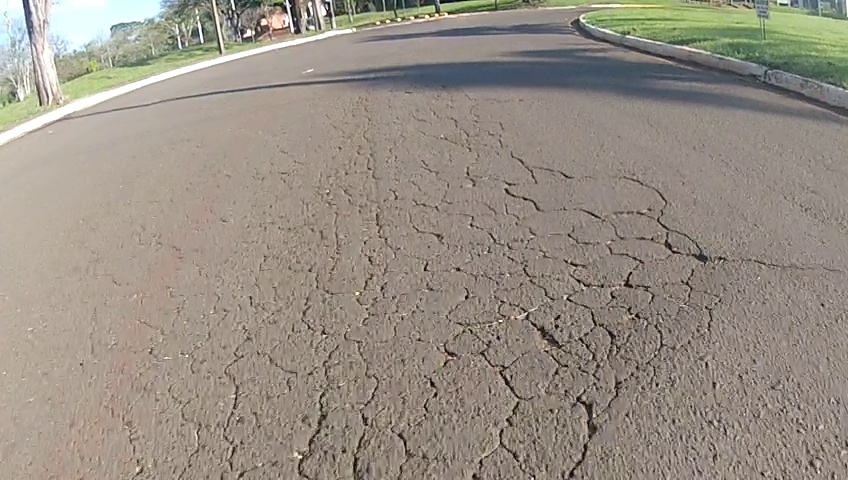TRF: (271, 79, 725, 480)
